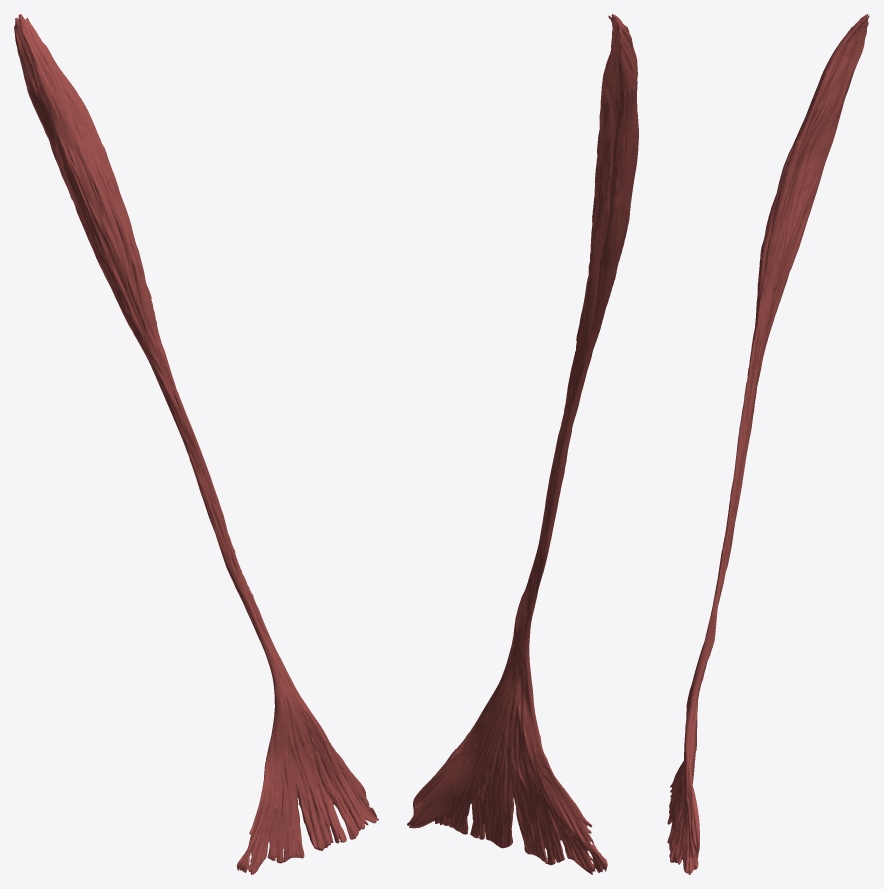
File: FMA38464.glb
3 renders of one model, left to right at view 1: azimuth 30°, elevation 25°; view 2: azimuth 150°, elevation 25°; view 3: azimuth 270°, elevation 25°, orthographic. The views are drawn at different scales.
Parts seen in each view (by area): view 1: FMA38464; view 2: FMA38464; view 3: FMA38464.
Boxes of the visible parts, x1=… form: FMA38464: x1=14, y1=14, x2=378, y2=874; FMA38464: x1=407, y1=14, x2=638, y2=874; FMA38464: x1=667, y1=14, x2=869, y2=874.
Size of the model in its own units: 0.1114 by 0.3208 by 0.078.
